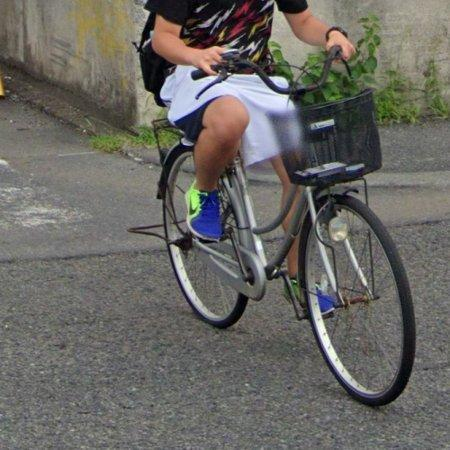bicycles: (129, 46, 417, 406)
